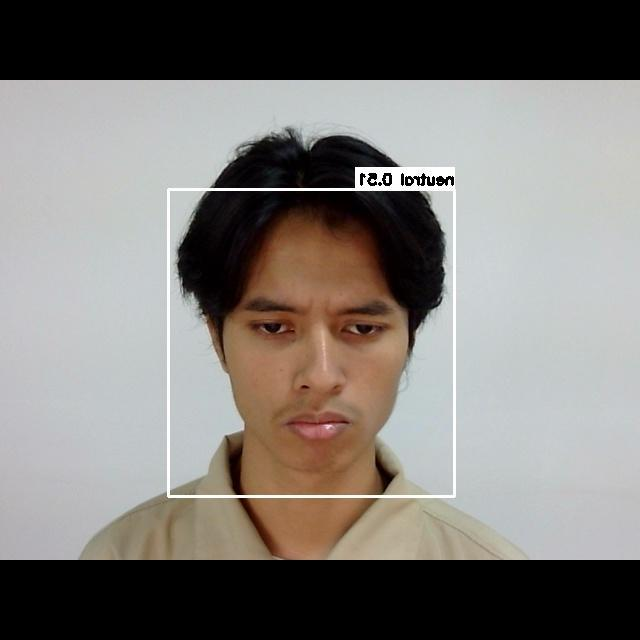Sad: (218, 273, 411, 456)
